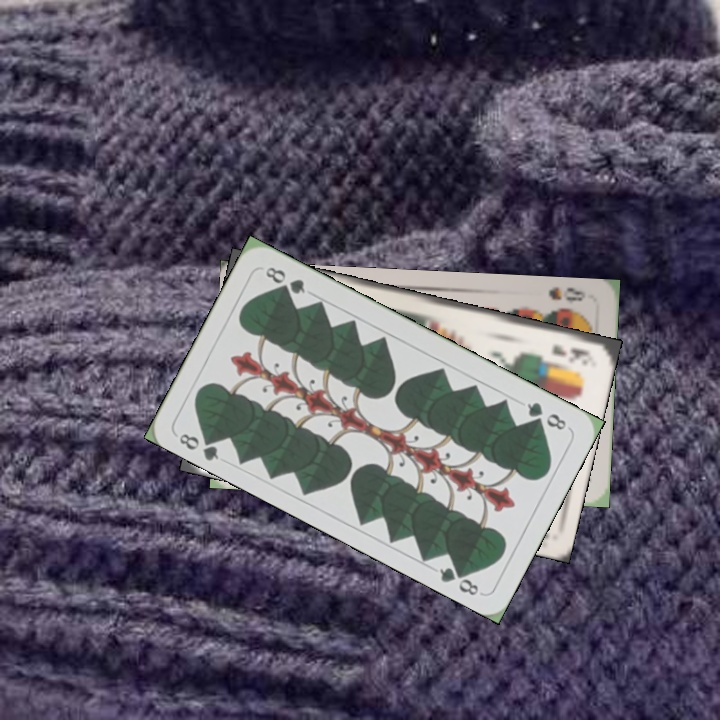EK: (548, 340, 592, 362)
G8: (174, 428, 222, 463), (522, 398, 569, 433)
S8: (544, 283, 588, 305)
